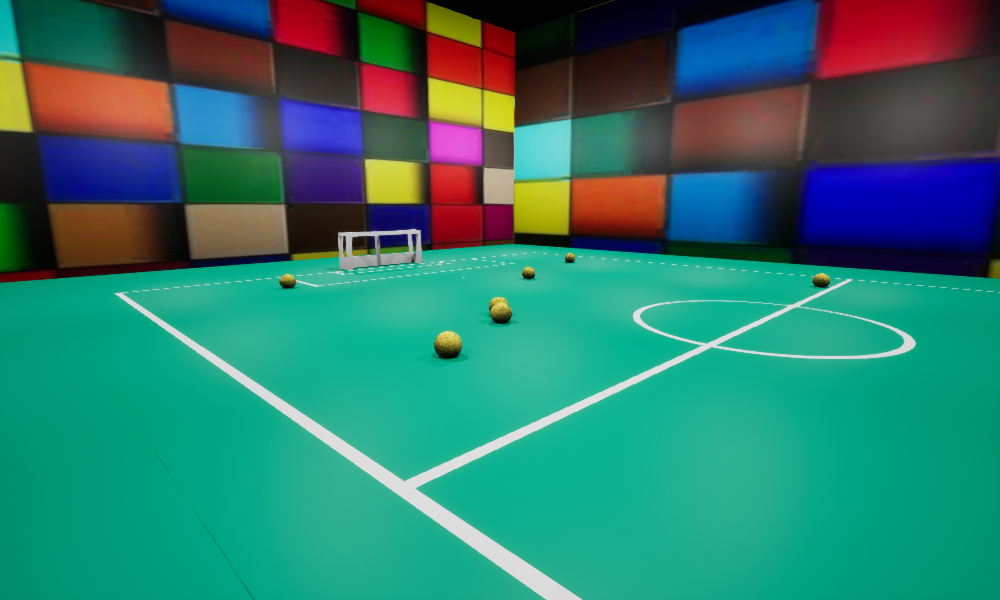b: (434, 331, 461, 357), (490, 303, 511, 322), (489, 297, 508, 310), (812, 273, 829, 286), (279, 274, 295, 287), (522, 267, 534, 278), (565, 253, 574, 262)
g: (338, 229, 421, 269)
